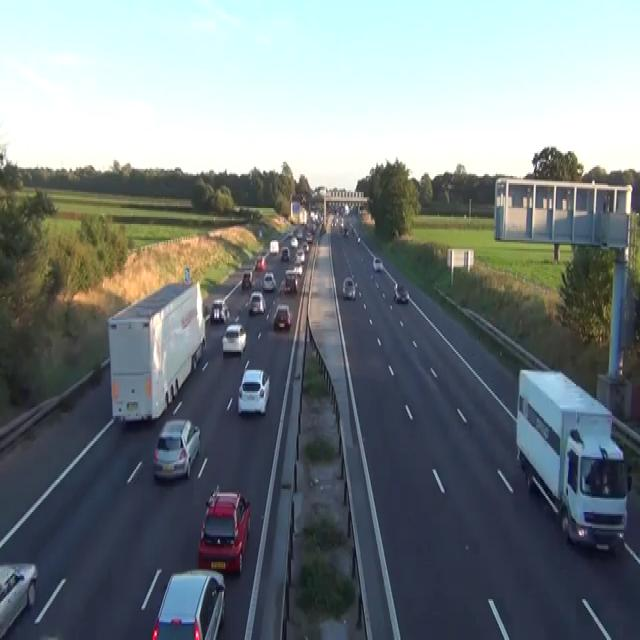Car: (150, 567, 225, 638), (197, 486, 250, 574), (152, 418, 200, 480), (0, 562, 38, 638), (237, 368, 270, 416), (221, 322, 246, 356), (210, 298, 230, 324), (273, 304, 291, 329), (247, 290, 265, 314), (331, 215, 349, 237), (284, 268, 297, 294), (342, 276, 356, 298), (262, 270, 276, 292), (393, 283, 409, 302), (241, 270, 252, 288), (372, 256, 383, 272), (254, 256, 266, 270), (295, 247, 305, 263), (269, 240, 279, 254), (281, 246, 289, 262), (293, 262, 302, 276), (202, 302, 208, 318), (305, 231, 312, 244), (301, 240, 309, 251), (290, 237, 298, 247), (319, 224, 326, 235), (295, 228, 303, 236), (300, 194, 306, 204), (343, 226, 348, 236), (344, 203, 349, 213), (285, 231, 292, 238), (258, 228, 262, 238), (357, 234, 360, 242)
Truck: (515, 368, 632, 553), (107, 279, 206, 423)
